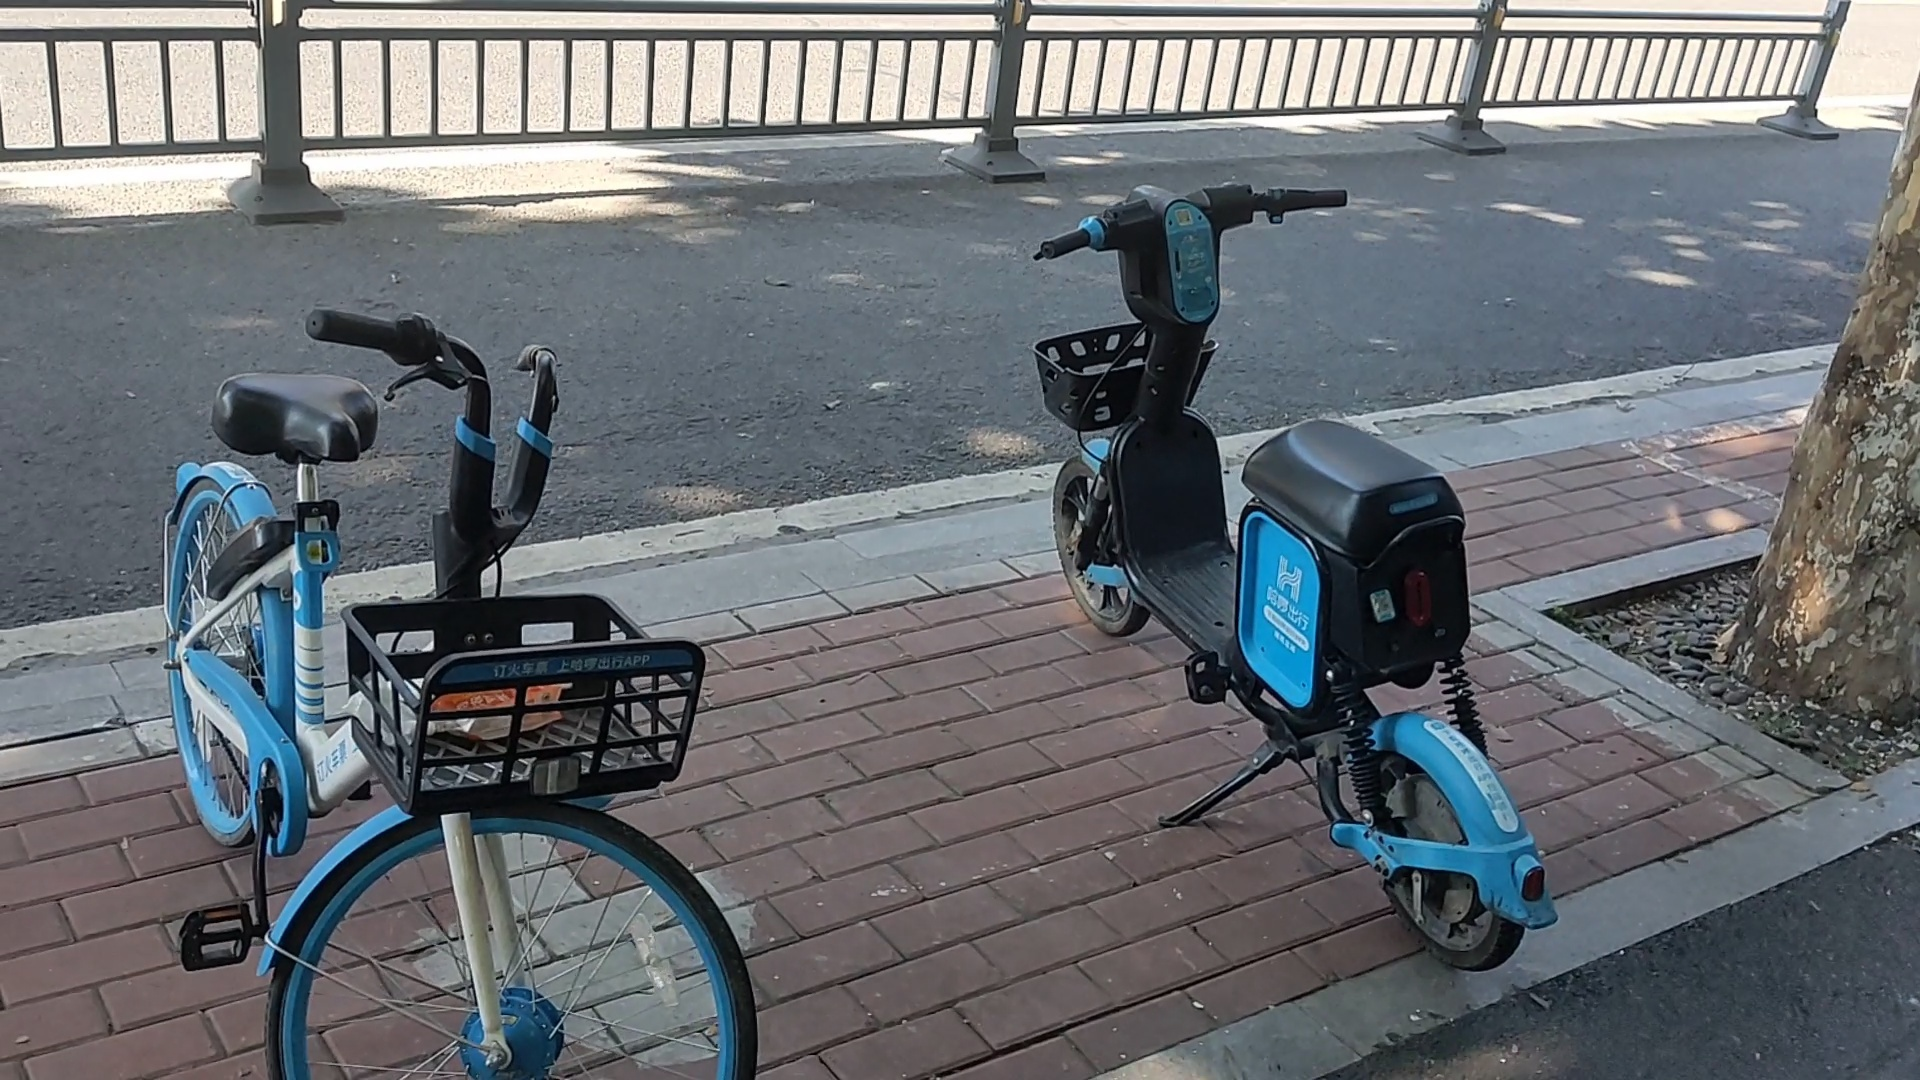non-vehicle: (96, 289, 760, 1079), (1019, 166, 1567, 982)
